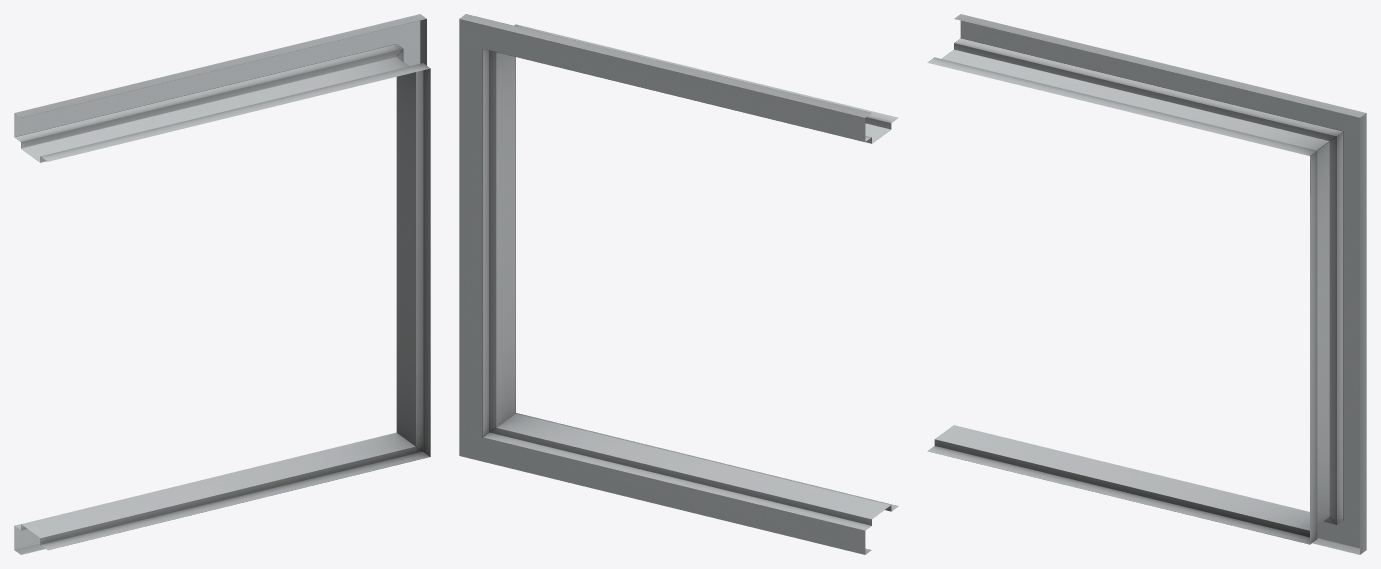
Rendered from props_spytech_doorframe002c.glb.
3 views of the same model, side by side, from view 1: azimuth 30°, elevation 25°; view 2: azimuth 150°, elevation 25°; view 3: azimuth 330°, elevation 25° (orthographic).
Parts seen in each view (by area): view 1: models/props_spytech/doorframe002c; view 2: models/props_spytech/doorframe002c; view 3: models/props_spytech/doorframe002c.
Part boxes in pixels (x1=…): models/props_spytech/doorframe002c: x1=14, y1=14, x2=430, y2=554; models/props_spytech/doorframe002c: x1=459, y1=14, x2=898, y2=554; models/props_spytech/doorframe002c: x1=927, y1=14, x2=1366, y2=554.
Size of the model in its own units: 140 by 144 by 20.
Materials: 1 (1 with a texture image).
